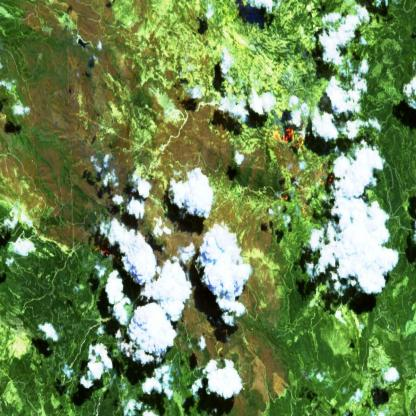fire: (278, 111, 304, 163), (323, 166, 337, 196), (275, 188, 293, 204)
